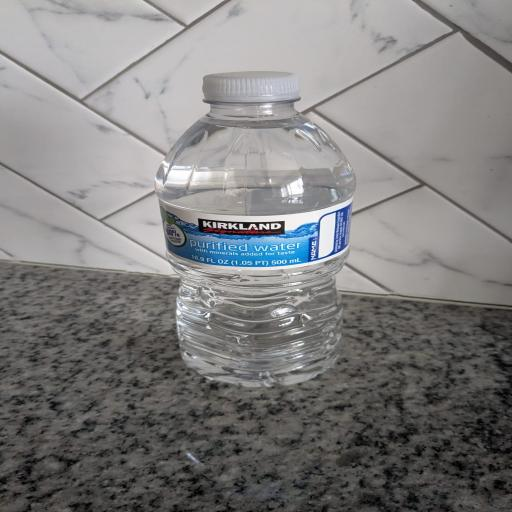waterbottle: (156, 72, 355, 386)
